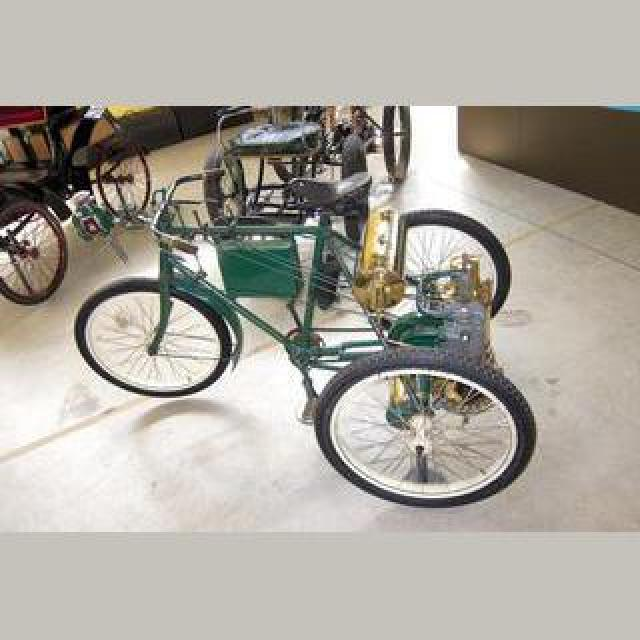Person: (62, 150, 532, 516), (0, 106, 154, 304)
